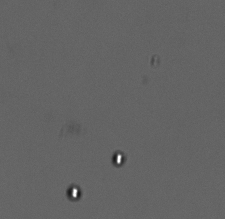Living Cell: (65, 183, 83, 202), (111, 150, 127, 167)
